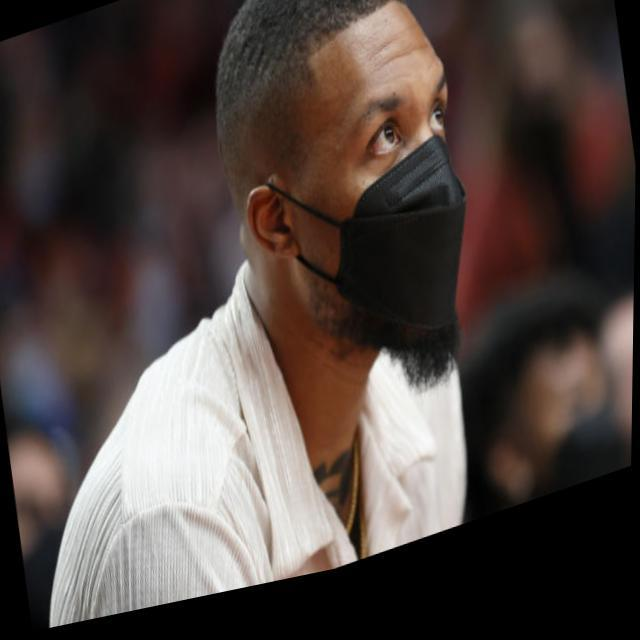Nonhelmet: (208, 0, 476, 386)
